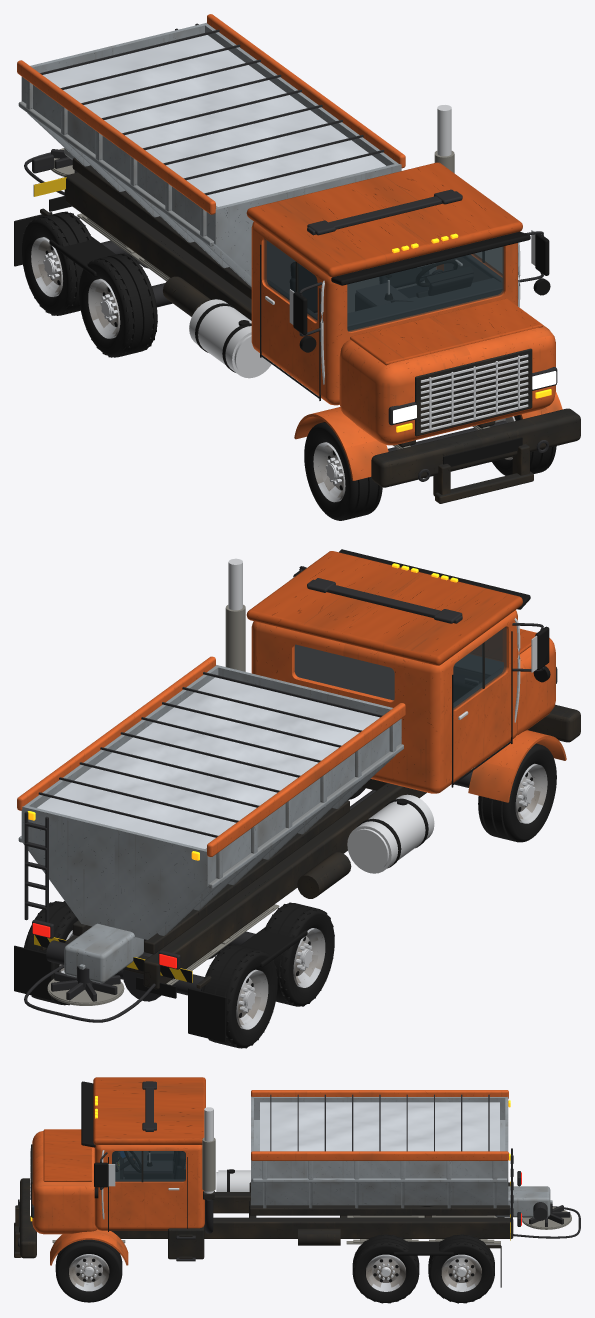
File: salttruck.glb
3 views of the same model, one above another, from view 1: azimuth 30°, elevation 25°; view 2: azimuth 150°, elevation 25°; view 3: azimuth 270°, elevation 25° (orthographic). The views are drawn at different scales.
Visible parts, largest first — view 1: body_paint_orange, salt_salt, body_frame_dark, body_paint_orange_dark, body_galvanised, body_glass, body_iron, body_chrome, body_black_plastic, wheel_2_right_tyre_rubber, wheel_3_right_tyre_rubber, wheel_1_right_tyre_rubber (+10 smaller); view 2: body_galvanised, body_paint_orange, salt_salt, body_paint_orange_dark, body_frame_dark, body_iron, body_black_plastic, body_chrome, wheel_3_right_tyre_rubber, wheel_2_right_tyre_rubber, cab_interior_headliner, wheel_1_right_tyre_rubber (+9 smaller); view 3: body_paint_orange, body_galvanised, body_frame_dark, salt_salt, body_paint_orange_dark, body_iron, wheel_2_left_tyre_rubber, wheel_3_left_tyre_rubber, body_black_plastic, wheel_1_left_tyre_rubber, body_glass, body_steel_worn (+9 smaller).
Part boxes in pixels (box(x1,y1,x2,y2)): body_paint_orange: box(17, 14, 562, 480); salt_salt: box(42, 35, 385, 206); body_frame_dark: box(40, 157, 580, 503); body_paint_orange_dark: box(246, 162, 542, 365); body_galvanised: box(18, 22, 401, 286); body_glass: box(264, 238, 503, 331); body_iron: box(24, 23, 557, 481); body_chrome: box(189, 105, 535, 432); body_black_plastic: box(14, 196, 550, 466); wheel_2_right_tyre_rubber: box(78, 253, 157, 357); wheel_3_right_tyre_rubber: box(21, 211, 91, 315); wheel_1_right_tyre_rubber: box(304, 422, 382, 520); body_galvanised: box(18, 665, 403, 983); body_paint_orange: box(17, 610, 566, 856); salt_salt: box(37, 677, 379, 848); body_paint_orange_dark: box(246, 551, 535, 665); body_frame_dark: box(40, 642, 580, 989); body_iron: box(24, 566, 557, 1022); body_black_plastic: box(14, 549, 550, 1042); body_chrome: box(228, 558, 537, 873); wheel_3_right_tyre_rubber: box(201, 944, 277, 1048); wheel_2_right_tyre_rubber: box(264, 902, 334, 1006); cab_interior_headliner: box(294, 644, 394, 700); wheel_1_right_tyre_rubber: box(478, 743, 556, 842); body_paint_orange: box(32, 1090, 508, 1265); body_galvanised: box(251, 1096, 552, 1217); body_frame_dark: box(14, 1144, 513, 1259); salt_salt: box(260, 1102, 499, 1151); body_paint_orange_dark: box(43, 1077, 205, 1181); body_iron: box(18, 1081, 580, 1261); wheel_2_left_tyre_rubber: box(352, 1234, 419, 1303); wheel_3_left_tyre_rubber: box(428, 1234, 494, 1303); body_black_plastic: box(19, 1081, 501, 1287); wheel_1_left_tyre_rubber: box(55, 1239, 122, 1302); body_glass: box(112, 1151, 185, 1181); body_steel_worn: box(52, 1138, 500, 1244).
Bounding box in the file's own units: 3.14 × 3.55 × 9.36.
Materials: 42 (9 with a texture image).
